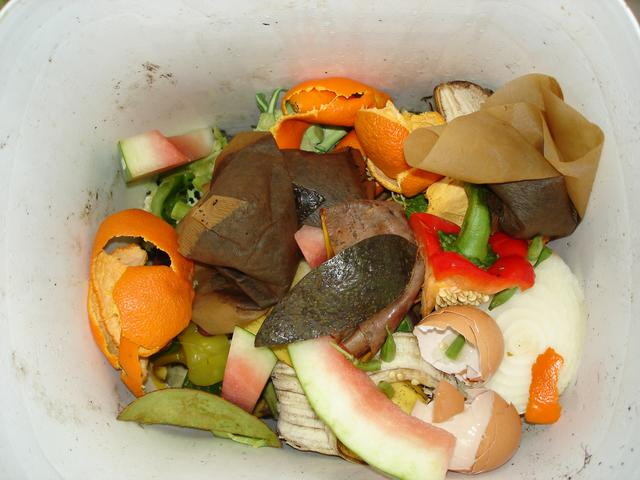garbage: (115, 78, 596, 469)
